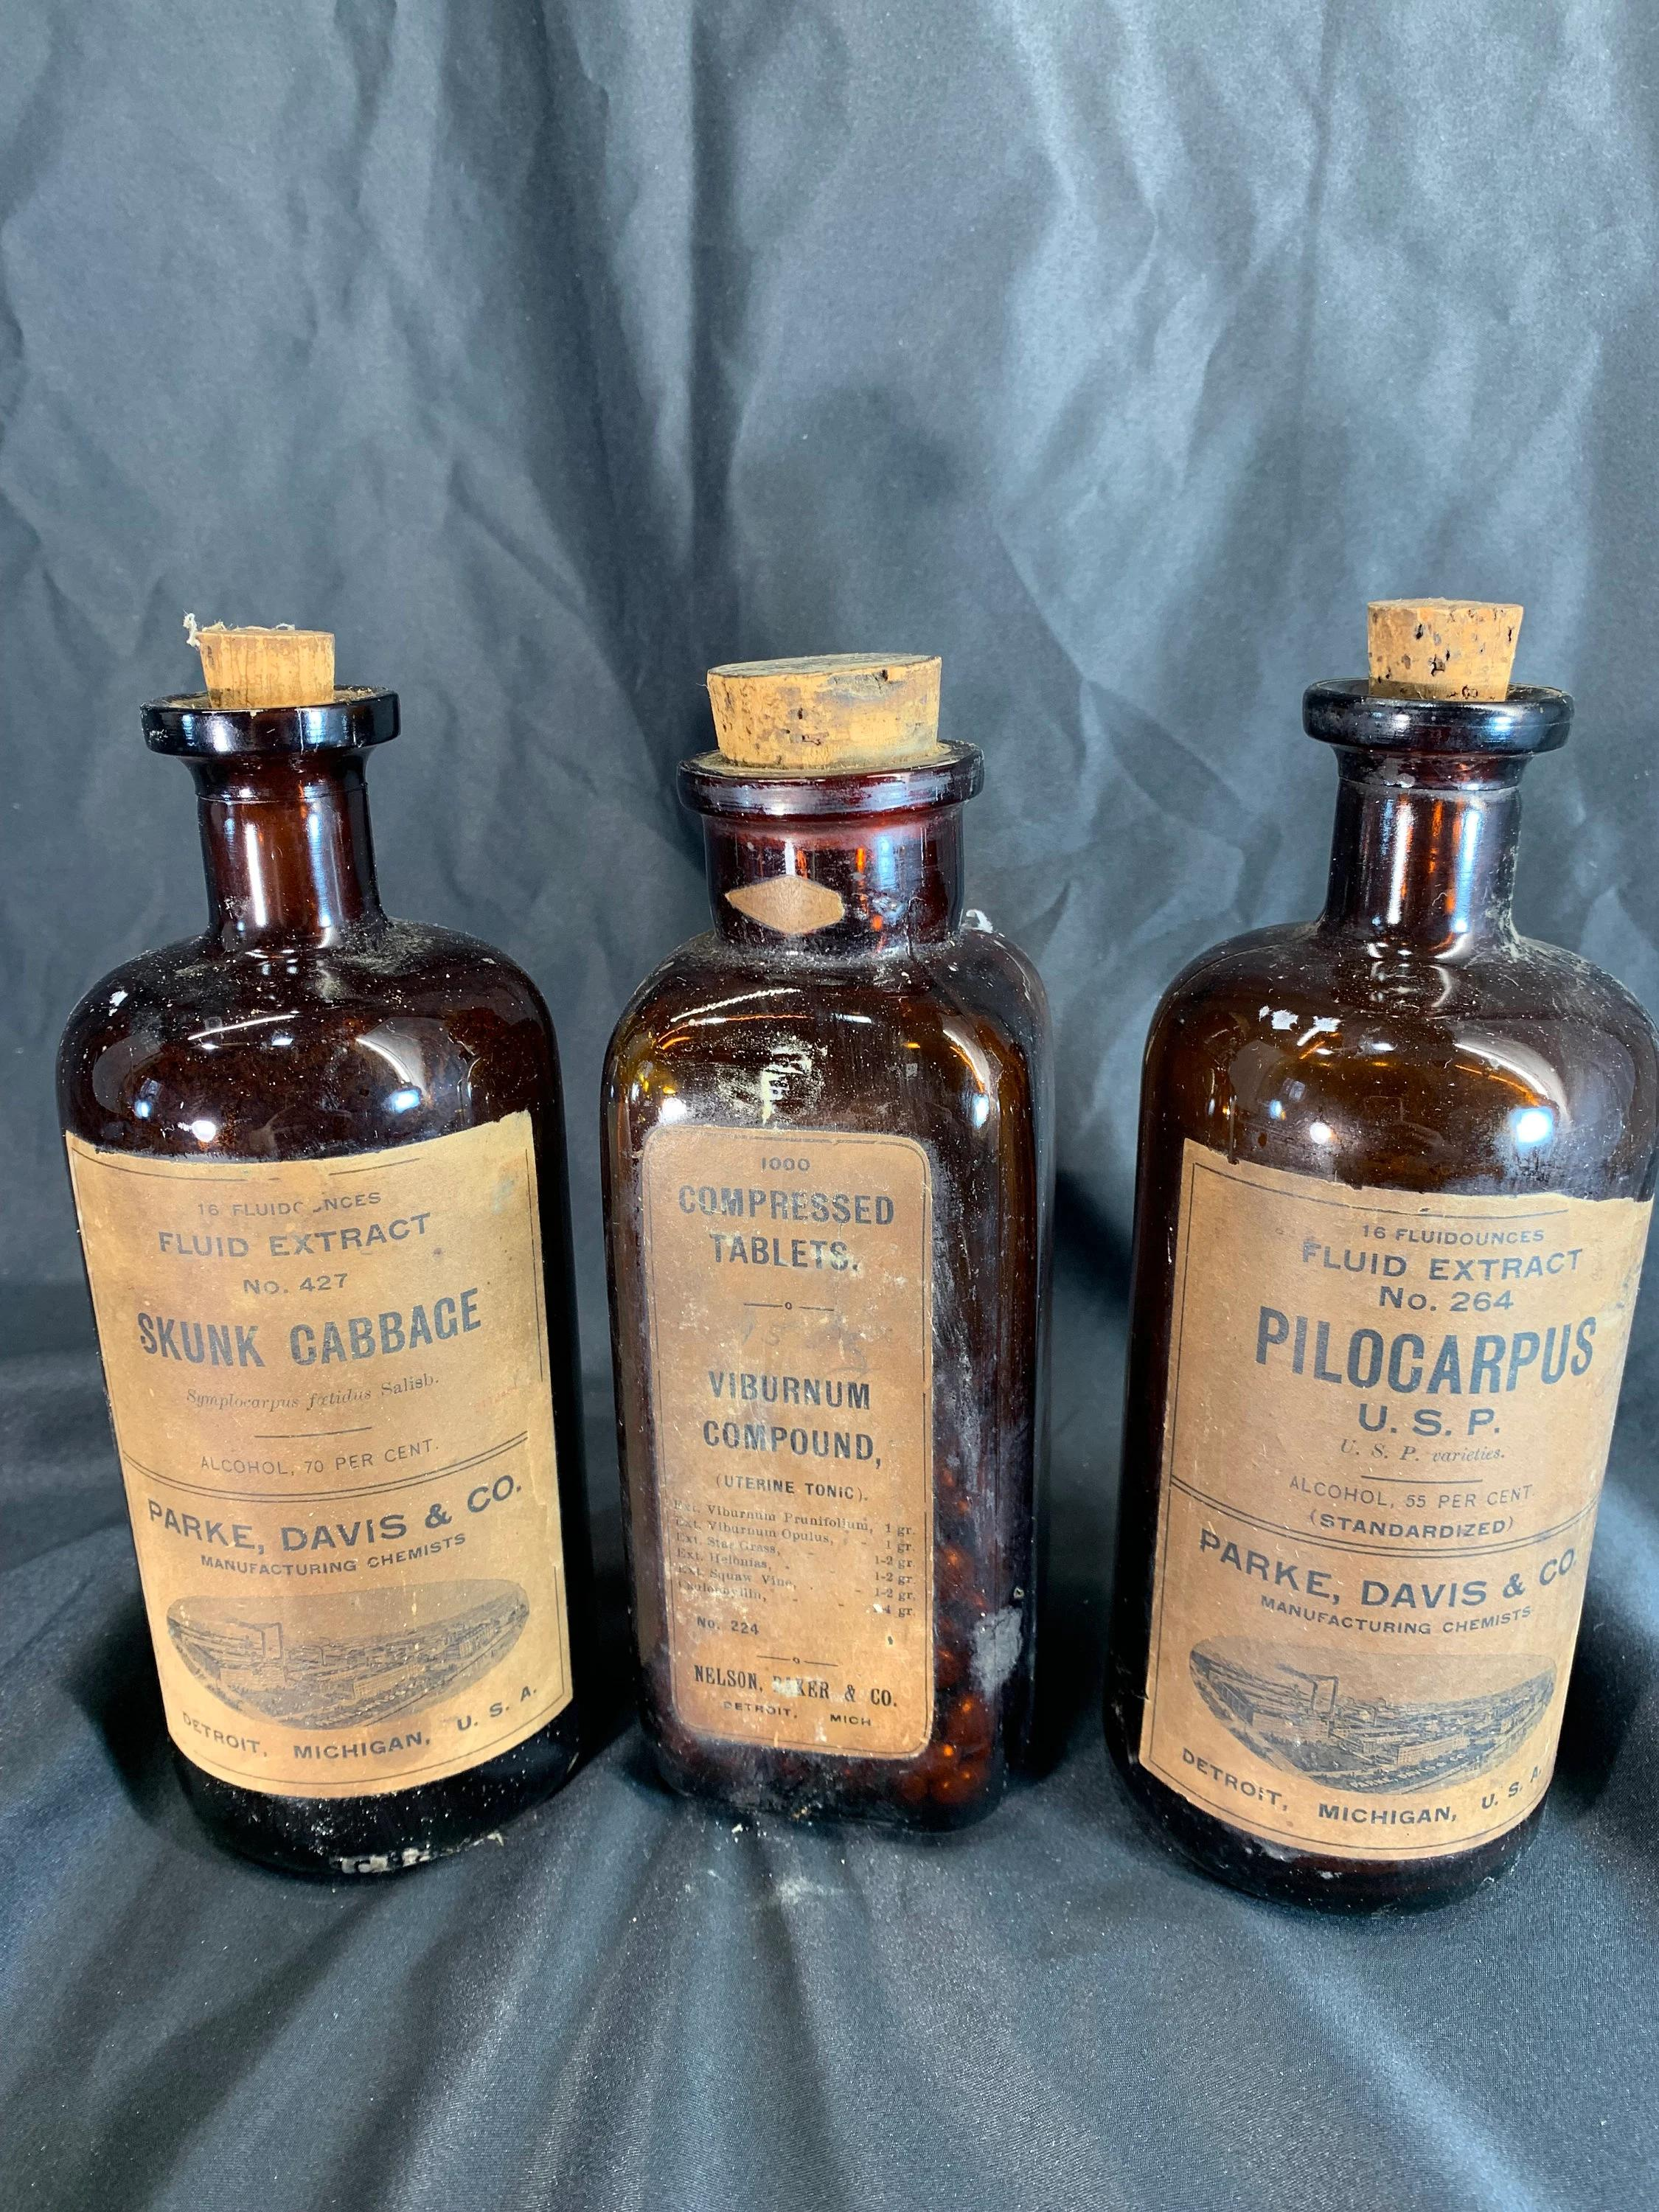glass: (1110, 608, 1659, 1905), (59, 641, 612, 1865), (598, 657, 1042, 1838)
